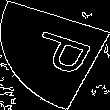P_SE: (15, 28, 95, 82)
